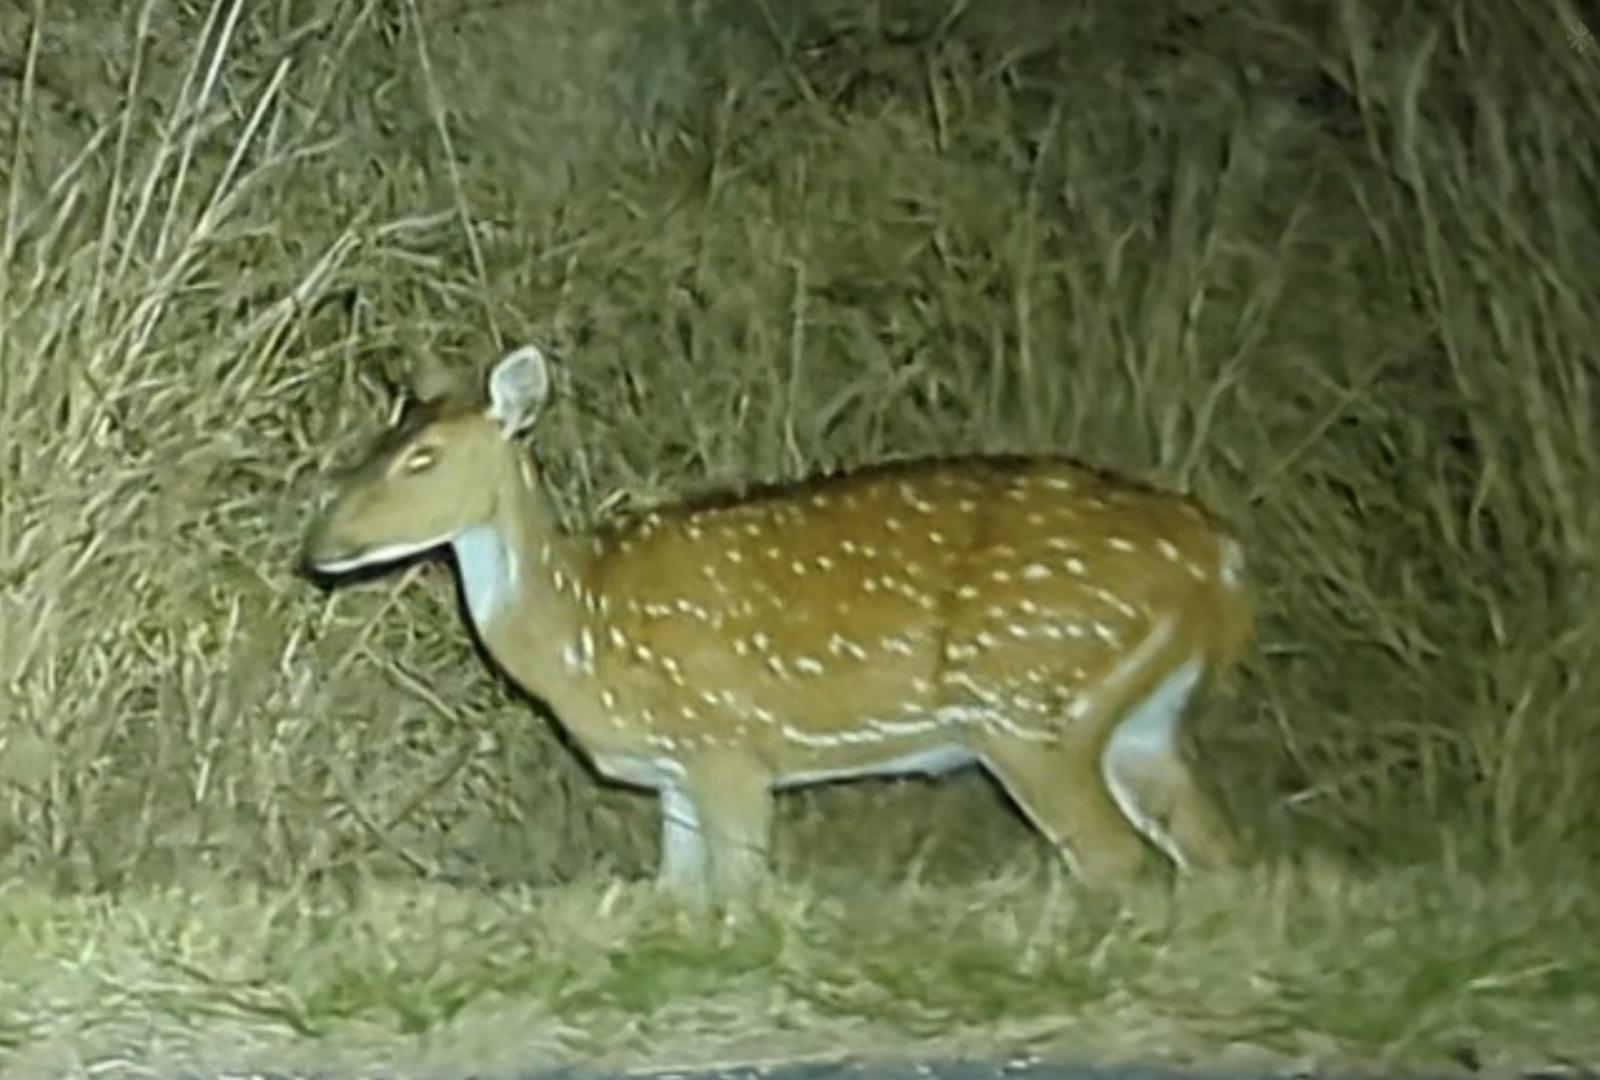Deer: (301, 345, 1251, 896)
